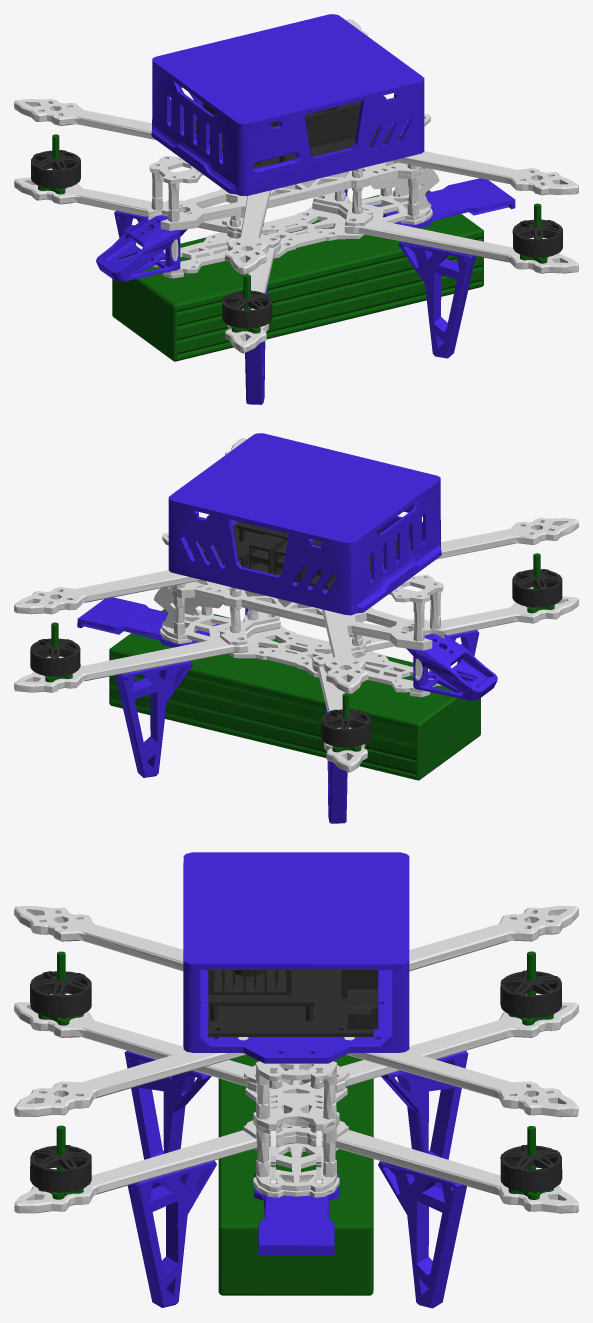
The model's file is CoisaRuim.dae.
3 views of the same model, one above another, from view 1: azimuth 30°, elevation 25°; view 2: azimuth 150°, elevation 25°; view 3: azimuth 270°, elevation 25° (orthographic). The views are drawn at different scales.
Visible parts, largest first — view 1: frame; view 2: frame; view 3: frame.
Boxes of the visible parts, <box> form: frame: <box>14,14,578,404</box>; frame: <box>14,433,578,823</box>; frame: <box>14,852,578,1308</box>.
Size of the model in its own units: 0.265 by 0.266 by 0.1735.
